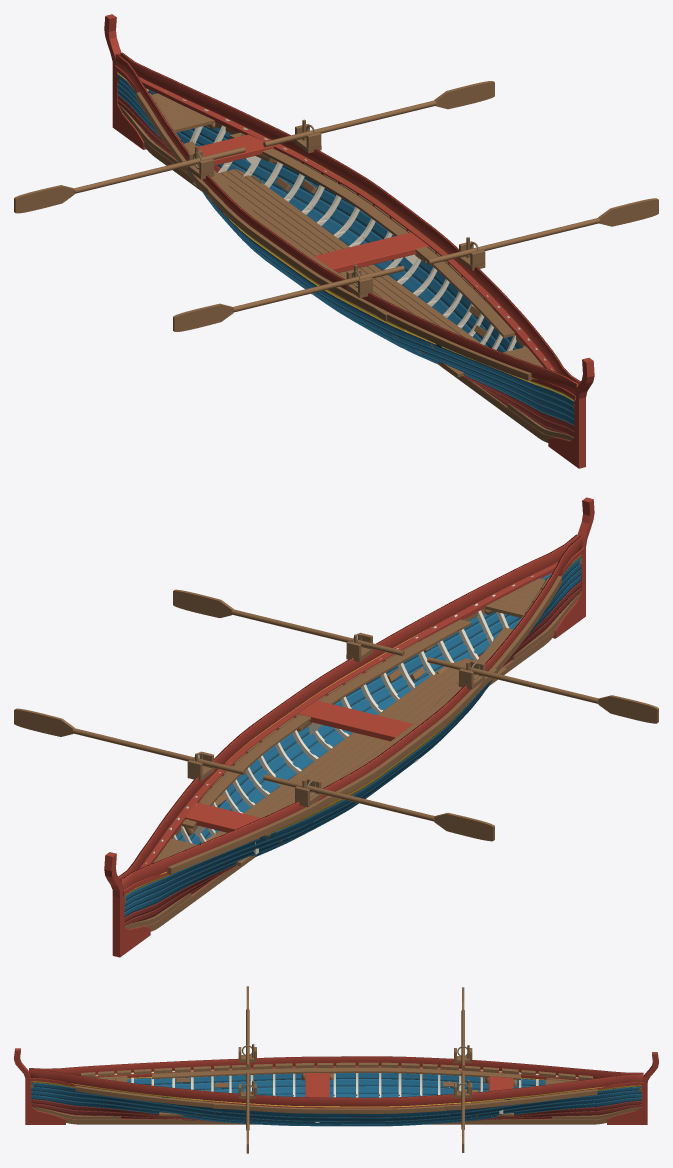
Rendered from midalji-mobile.glb.
3 renders of one model, top to bottom at view 1: azimuth 30°, elevation 25°; view 2: azimuth 150°, elevation 25°; view 3: azimuth 270°, elevation 25°, orthographic. The views are drawn at different scales.
Parts seen in each view (by area): view 1: washboards-173, washboards-74, rubbing-strake-203, catwalks-204, thwarts-352, gunwale-76, planking-130, bow-post-5, planking-136, floorboards-338, floorboards-337, gunwale-77 (+22 smaller); view 2: washboards-173, washboards-74, rubbing-strake-203, catwalks-204, thwarts-352, stern-post-6, planking-130, planking-136, gunwale-76, gunwale-75, floorboards-337, floorboards-338 (+24 smaller); view 3: washboards-173, washboards-74, catwalks-105, keel-0, planking-57, gunwale-175, planking-37, planking-51, planking-156, planking-150, gunwale-174, planking-136 (+30 smaller).
Part boxes in pixels (left/top/right/bottom): washboards-173: left=120, top=52, right=580, bottom=384; washboards-74: left=115, top=54, right=578, bottom=394; rubbing-strake-203: left=139, top=77, right=555, bottom=371; catwalks-204: left=229, top=132, right=514, bottom=338; thwarts-352: left=314, top=232, right=428, bottom=272; gunwale-76: left=208, top=186, right=385, bottom=321; planking-130: left=260, top=179, right=488, bottom=346; bow-post-5: left=548, top=357, right=594, bottom=468; planking-136: left=282, top=181, right=485, bottom=336; floorboards-338: left=235, top=169, right=482, bottom=344; floorboards-337: left=227, top=169, right=461, bottom=335; gunwale-77: left=381, top=308, right=532, bottom=380; washboards-173: left=118, top=534, right=578, bottom=879; washboards-74: left=120, top=536, right=583, bottom=889; rubbing-strake-203: left=140, top=561, right=558, bottom=868; catwalks-204: left=182, top=619, right=471, bottom=828; thwarts-352: left=298, top=700, right=412, bottom=741; stern-post-6: left=104, top=852, right=150, bottom=957; planking-130: left=206, top=668, right=439, bottom=838; planking-136: left=219, top=670, right=418, bottom=810; gunwale-76: left=321, top=669, right=496, bottom=804; gunwale-75: left=167, top=797, right=329, bottom=874; floorboards-337: left=225, top=658, right=470, bottom=833; floorboards-338: left=210, top=660, right=460, bottom=839; washboards-173: left=29, top=1069, right=643, bottom=1106; washboards-74: left=29, top=1056, right=643, bottom=1078; catwalks-105: left=152, top=1067, right=520, bottom=1079; keel-0: left=80, top=1119, right=592, bottom=1124; planking-57: left=183, top=1073, right=485, bottom=1083; gunwale-175: left=214, top=1103, right=455, bottom=1113; planking-37: left=202, top=1086, right=467, bottom=1094; planking-51: left=221, top=1079, right=449, bottom=1088; planking-156: left=183, top=1105, right=490, bottom=1117; planking-150: left=221, top=1112, right=449, bottom=1121; gunwale-174: left=443, top=1089, right=597, bottom=1110; planking-136: left=202, top=1114, right=470, bottom=1124.
Size of the model in its own units: 4.81 by 1.06 by 8.3.
